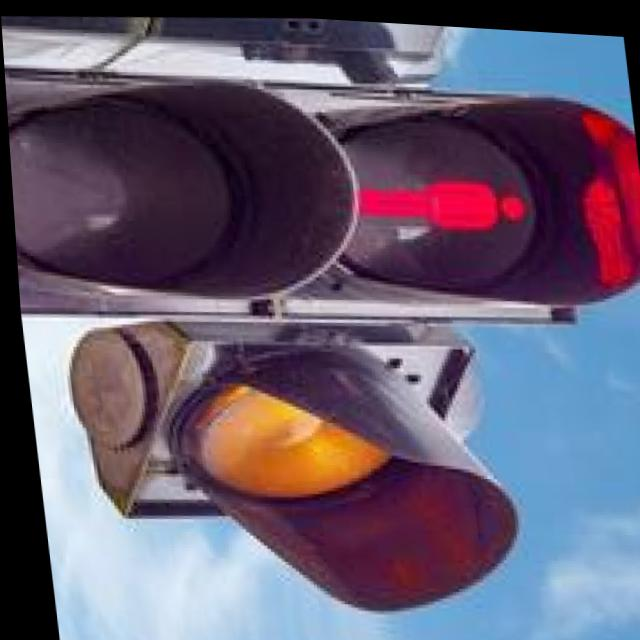red_light: (300, 73, 595, 319)
yellow_light: (122, 298, 469, 639)
